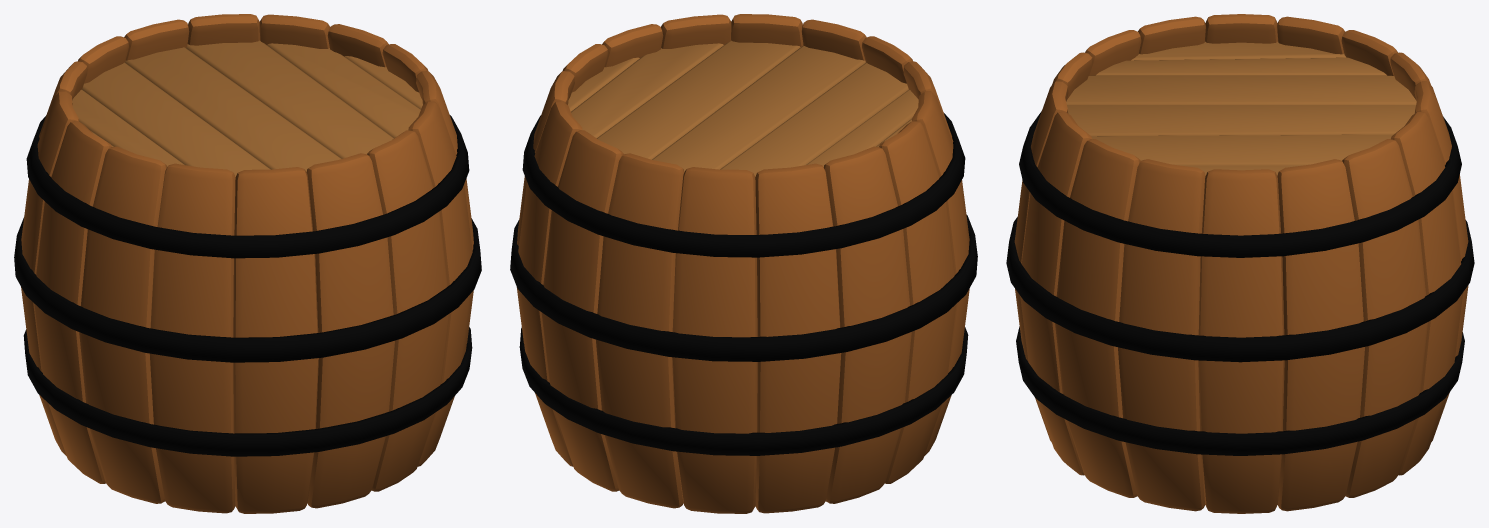
Rendered from Barrel.fbx.
The picture shows the model from 3 angles, left to right: view 1: azimuth 30°, elevation 25°; view 2: azimuth 150°, elevation 25°; view 3: azimuth 270°, elevation 25°; orthographic projection.
Visible parts, largest first — view 1: Cylinder, Cylinder.001, Circle; view 2: Cylinder, Cylinder.001, Circle; view 3: Cylinder, Cylinder.001, Circle.
Boxes of the visible parts, box(x1,y1,x2,y2) form: Cylinder: box(21, 14, 473, 513); Cylinder.001: box(14, 115, 481, 456); Circle: box(72, 40, 422, 176); Cylinder: box(516, 14, 969, 513); Cylinder.001: box(510, 113, 977, 455); Circle: box(568, 40, 918, 176); Cylinder: box(1014, 14, 1468, 513); Cylinder.001: box(1006, 111, 1474, 455); Circle: box(1066, 41, 1416, 175).
Size of the model in its own units: 245 by 197 by 245.
